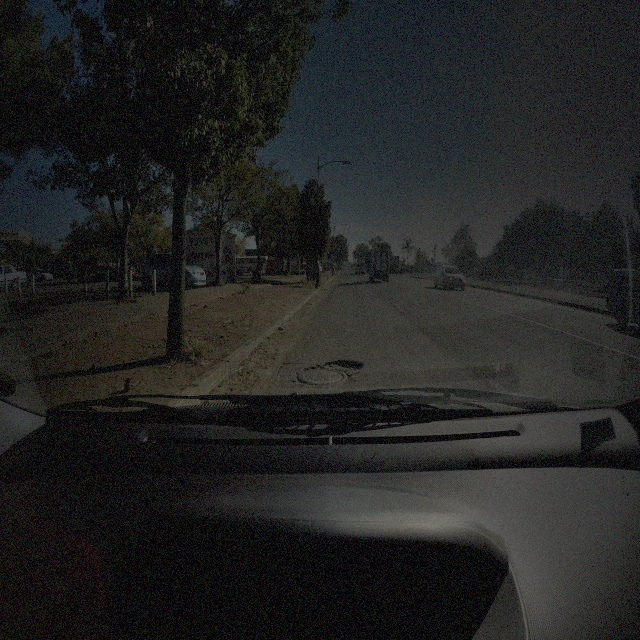pothole: (324, 356, 364, 376), (305, 363, 324, 371)
